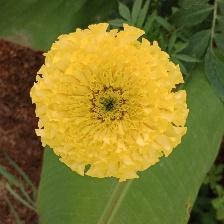marigold: (33, 23, 191, 183)
